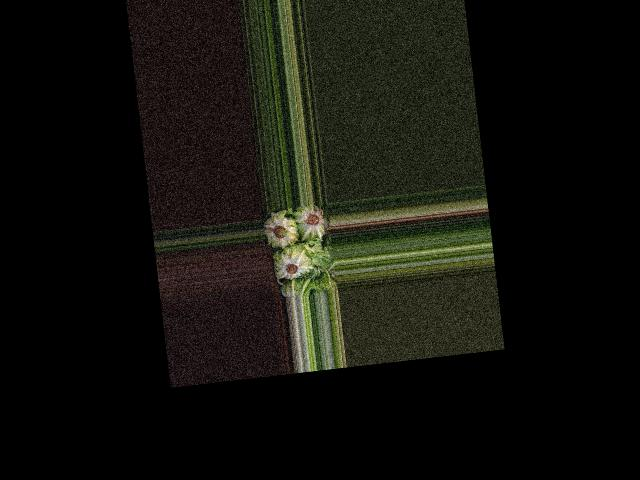lettuce: (293, 203, 327, 242)
